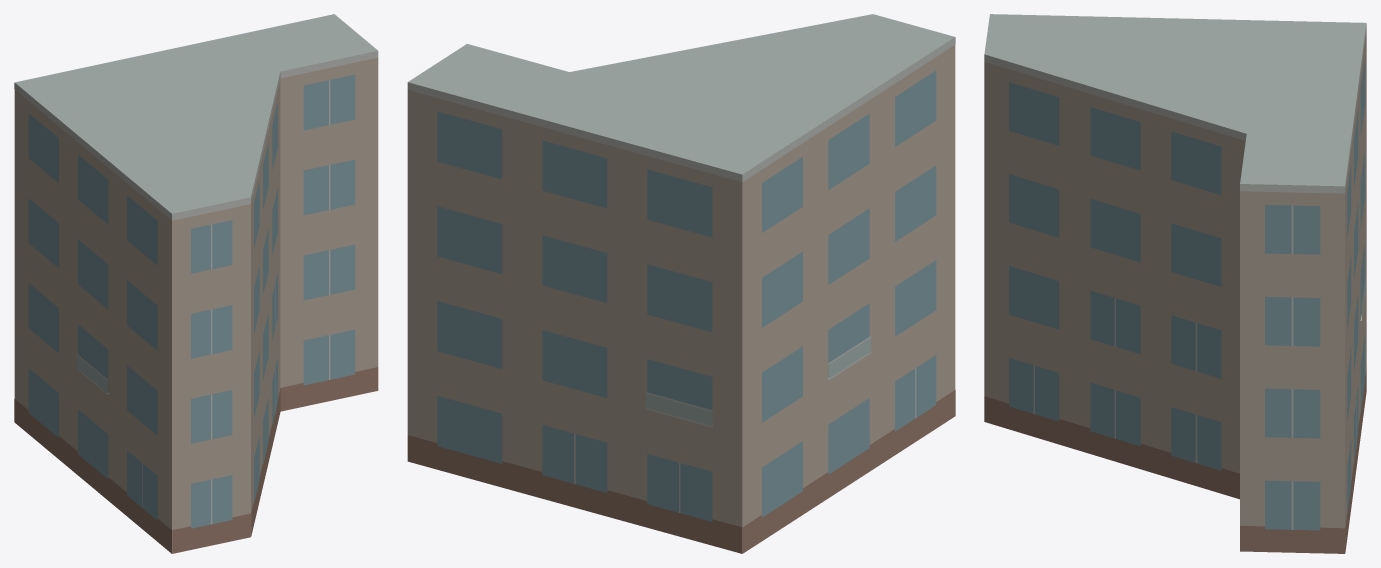
The model's file is residential-ea4a756c-0227-4ef7-ad28-d932af282e87.glb.
3 views of the same model, side by side, from view 1: azimuth 30°, elevation 25°; view 2: azimuth 150°, elevation 25°; view 3: azimuth 270°, elevation 25° (orthographic). The views are drawn at different scales.
Parts seen in each view (by area): view 1: residential-ea4a756c-0227-4ef7-ad28-d932af282e87.tmp; view 2: residential-ea4a756c-0227-4ef7-ad28-d932af282e87.tmp; view 3: residential-ea4a756c-0227-4ef7-ad28-d932af282e87.tmp.
Part boxes in pixels (x1,y1,x2,y2): residential-ea4a756c-0227-4ef7-ad28-d932af282e87.tmp: [14, 14, 378, 553]; residential-ea4a756c-0227-4ef7-ad28-d932af282e87.tmp: [407, 14, 955, 553]; residential-ea4a756c-0227-4ef7-ad28-d932af282e87.tmp: [984, 14, 1366, 553].
Size of the model in its own units: 12.28 by 12.2 by 11.51.
